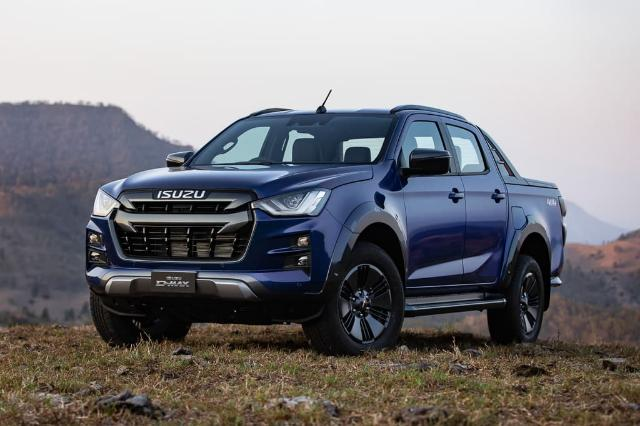pickup-truck: (85, 106, 568, 354)
